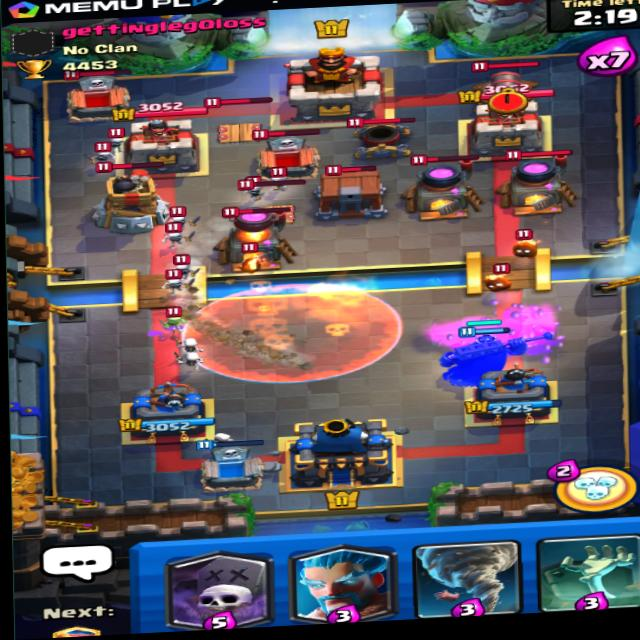bomb-tower: (93, 154, 172, 237)
cannon: (467, 55, 547, 107)
fire-spirit: (505, 223, 550, 258), (483, 259, 524, 296), (237, 243, 271, 274)
furnace: (495, 142, 589, 222), (400, 149, 482, 224), (212, 200, 296, 272)
goblin-cage: (315, 159, 390, 223)
mortar: (344, 112, 415, 163)
skeleton: (157, 297, 193, 334), (155, 269, 187, 304), (154, 223, 189, 253), (165, 199, 198, 230), (87, 139, 121, 166), (164, 258, 198, 284), (104, 124, 130, 150)
tesla-closed: (196, 91, 278, 148), (241, 173, 303, 232)
tombstone: (54, 55, 145, 122), (249, 125, 327, 182)
trail: (178, 292, 314, 382)
